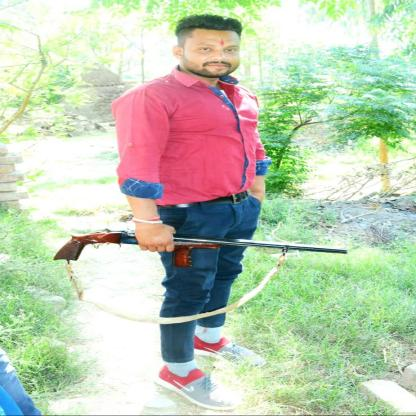rifle: (51, 228, 350, 262)
